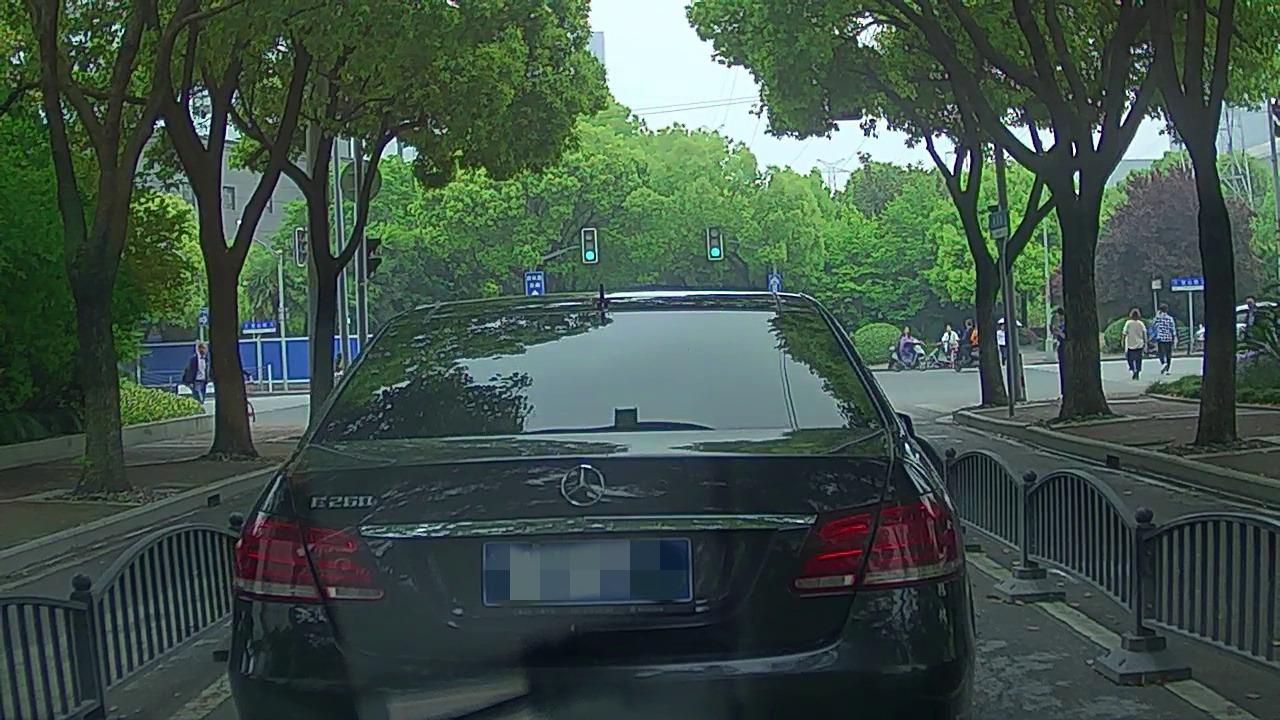traffic_light: (583, 230, 596, 263), (709, 226, 722, 258)
